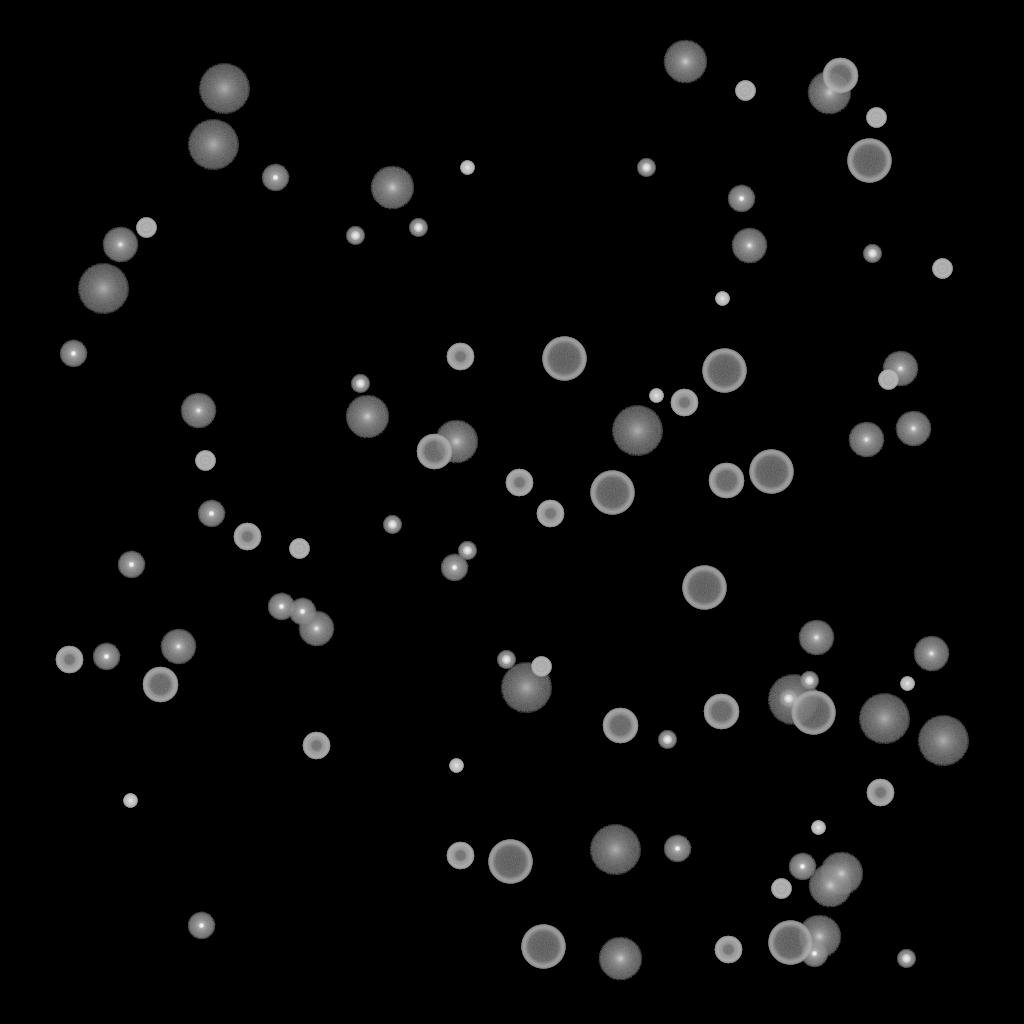depth:-10: (197, 500, 225, 528), (440, 554, 468, 582), (288, 598, 316, 626), (788, 853, 816, 881), (727, 185, 755, 213), (267, 593, 295, 621), (187, 912, 215, 940), (117, 551, 145, 579), (800, 940, 828, 968), (261, 164, 289, 192), (663, 835, 691, 863), (92, 643, 120, 671), (59, 340, 87, 368)
depth:-20: (351, 375, 369, 393), (800, 672, 818, 690), (863, 245, 881, 263), (409, 219, 427, 237), (779, 690, 797, 708), (458, 542, 476, 560), (346, 227, 364, 245), (897, 950, 915, 968), (497, 651, 515, 669), (383, 516, 401, 534), (637, 159, 655, 177), (658, 731, 676, 749)
depth:-30: (449, 759, 463, 773), (123, 794, 137, 808), (900, 677, 914, 691), (811, 821, 825, 835), (460, 161, 474, 175), (715, 292, 729, 306), (649, 389, 663, 403)
depth:-40: (531, 657, 551, 677), (136, 218, 156, 238), (878, 370, 898, 390), (289, 539, 309, 559), (735, 81, 755, 101), (771, 879, 791, 899), (195, 451, 215, 471), (866, 108, 886, 128), (932, 259, 952, 279)
depth:-50: (670, 389, 698, 417), (714, 936, 742, 964), (505, 469, 533, 497), (866, 779, 894, 807), (446, 842, 474, 870), (536, 500, 564, 528), (233, 523, 261, 551), (55, 646, 83, 674), (302, 732, 330, 760), (446, 343, 474, 371)
depth:-60: (142, 667, 178, 703), (703, 694, 739, 730), (708, 463, 744, 499), (416, 434, 452, 470), (822, 58, 858, 94), (602, 708, 638, 744)
depth:-70: (488, 840, 532, 884), (791, 691, 835, 735), (590, 471, 634, 515), (847, 139, 891, 183), (542, 337, 586, 381), (682, 566, 726, 610), (702, 349, 746, 393), (768, 921, 812, 965), (521, 925, 565, 969), (749, 450, 793, 494)
depth:0: (731, 228, 767, 264), (160, 629, 196, 665), (913, 636, 949, 672), (848, 422, 884, 458), (882, 351, 918, 387), (298, 611, 334, 647), (180, 393, 216, 429), (895, 411, 931, 447), (102, 227, 138, 263), (798, 620, 834, 656)
depth:10: (808, 864, 852, 908), (345, 395, 389, 439), (598, 937, 642, 981), (370, 166, 414, 210), (663, 40, 707, 84), (819, 852, 863, 896), (807, 71, 851, 115), (797, 915, 841, 959), (434, 420, 478, 464)
depth:20: (917, 716, 969, 766), (611, 406, 663, 456), (187, 120, 239, 170), (500, 663, 552, 713), (198, 64, 250, 114), (858, 694, 910, 744), (589, 825, 641, 875), (77, 264, 129, 314), (767, 675, 819, 725)
